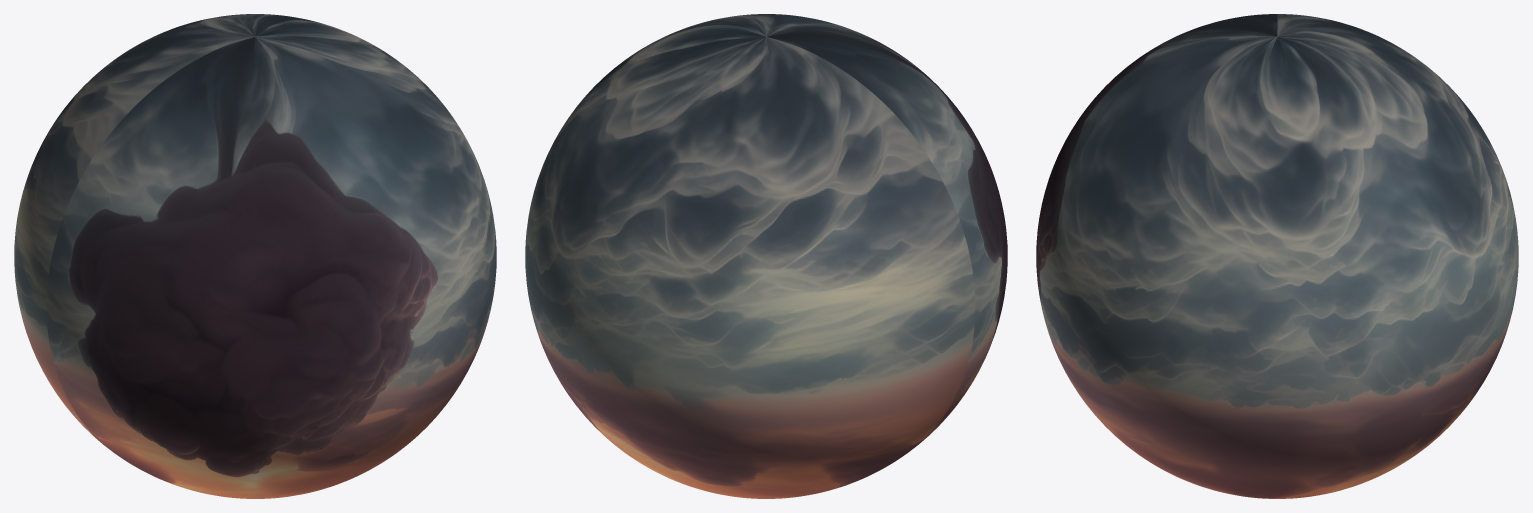
Rendered from sky4.glb.
3 renders of one model, left to right at view 1: azimuth 30°, elevation 25°; view 2: azimuth 150°, elevation 25°; view 3: azimuth 270°, elevation 25°, orthographic.
Parts seen in each view (by area): view 1: Object_2; view 2: Object_2; view 3: Object_2.
Part boxes in pixels (<box>): Object_2: <box>14,14,496,498</box>; Object_2: <box>525,14,1007,498</box>; Object_2: <box>1036,14,1518,498</box>.
Size of the model in its own units: 4.63 by 4.65 by 4.63.
1 material, 1 textured.
